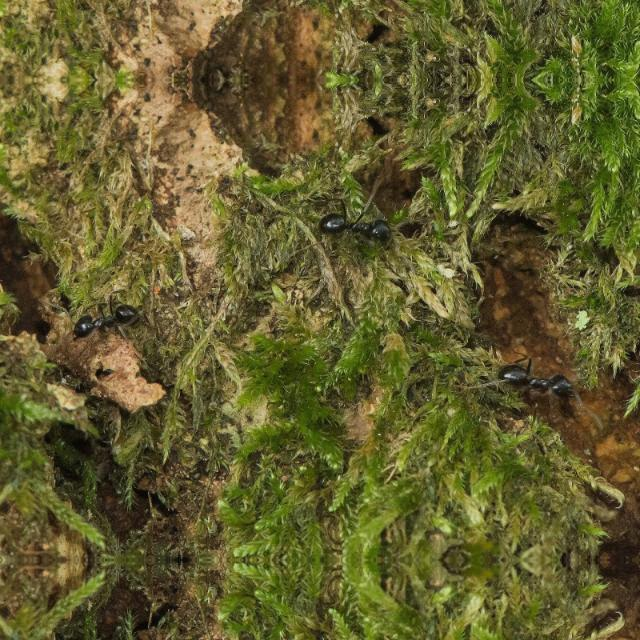Lasius: (487, 348, 588, 412), (303, 201, 399, 243), (66, 300, 138, 340)
